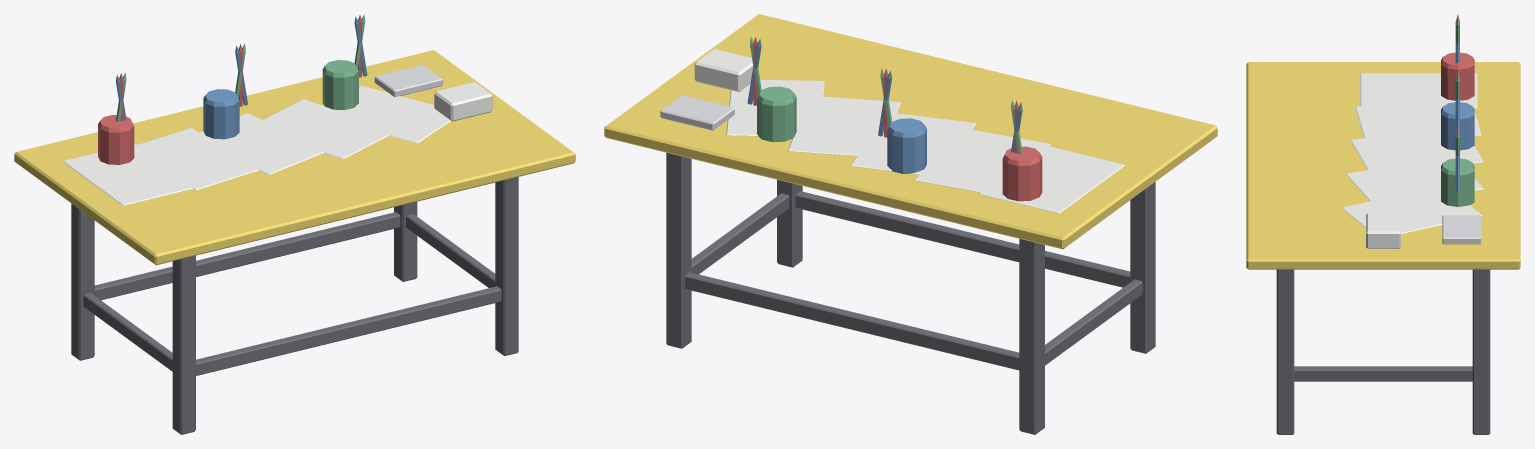
The picture shows the model from 3 angles, left to right: view 1: azimuth 30°, elevation 25°; view 2: azimuth 150°, elevation 25°; view 3: azimuth 270°, elevation 25°; orthographic projection. The views are drawn at different scales.
Parts seen in each view (by area): view 1: craft-table; view 2: craft-table; view 3: craft-table.
Boxes of the visible parts, <box> form: craft-table: <box>14,14,575,434</box>; craft-table: <box>604,14,1217,434</box>; craft-table: <box>1246,14,1520,434</box>.
Bounding box in the file's own units: 1.2 × 0.78 × 0.7.
